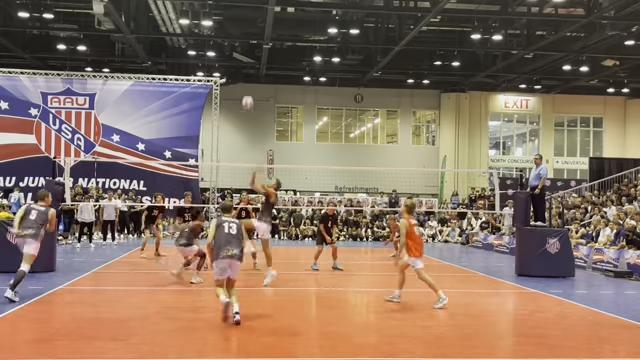Player: (385, 199, 447, 308), (4, 189, 55, 301), (207, 201, 247, 324), (171, 211, 206, 283), (311, 200, 342, 270), (232, 192, 258, 269), (140, 193, 165, 257), (175, 192, 199, 224), (384, 215, 398, 256)
Set: (244, 161, 290, 291)
ball: (242, 96, 253, 111)
